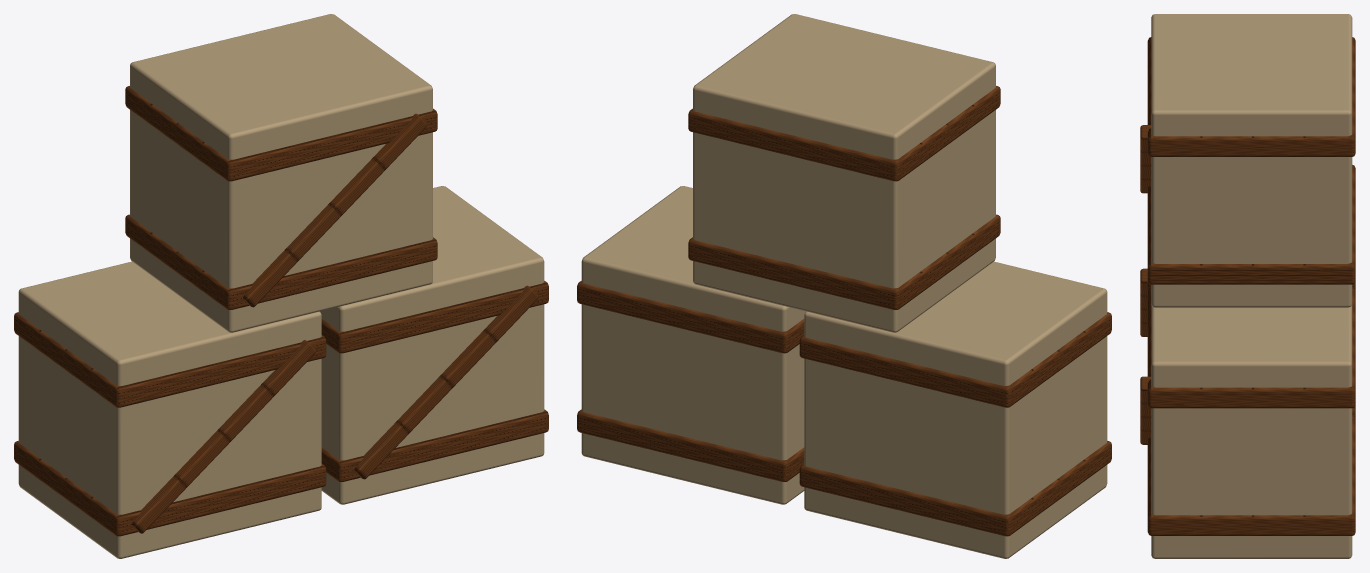
Rendered from undercity-sewers-and-thieves-den-stolen-goods-crates-26c53b7e__27240.glb.
3 views of the same model, side by side, from view 1: azimuth 30°, elevation 25°; view 2: azimuth 150°, elevation 25°; view 3: azimuth 270°, elevation 25° (orthographic).
Parts seen in each view (by area): view 1: stolen-goods-crates; view 2: stolen-goods-crates; view 3: stolen-goods-crates.
Boxes of the visible parts, bbox=[...] form: stolen-goods-crates: bbox=[14, 14, 548, 558]; stolen-goods-crates: bbox=[577, 14, 1111, 558]; stolen-goods-crates: bbox=[1140, 14, 1355, 558].
Bounding box in the file's own units: 1.48 × 1.3 × 0.6425.
Materials: 2 (1 with a texture image).
